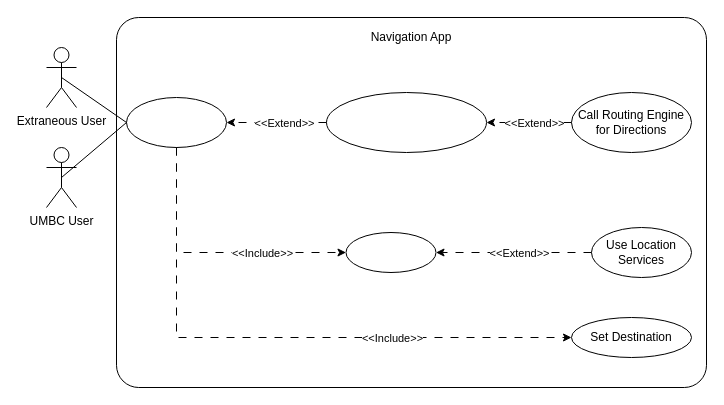
The diagram is 724 pixels wide and 405 high, and some of its shapes have lost their labels. Here are the shapes that lost their labels. From the top down, the centre of each, then its label:
At point 176,122: "Get Directions Outdoors".
At point 406,122: "Use OpenStreetMap Data".
At point 390,252: "Set Origin".
